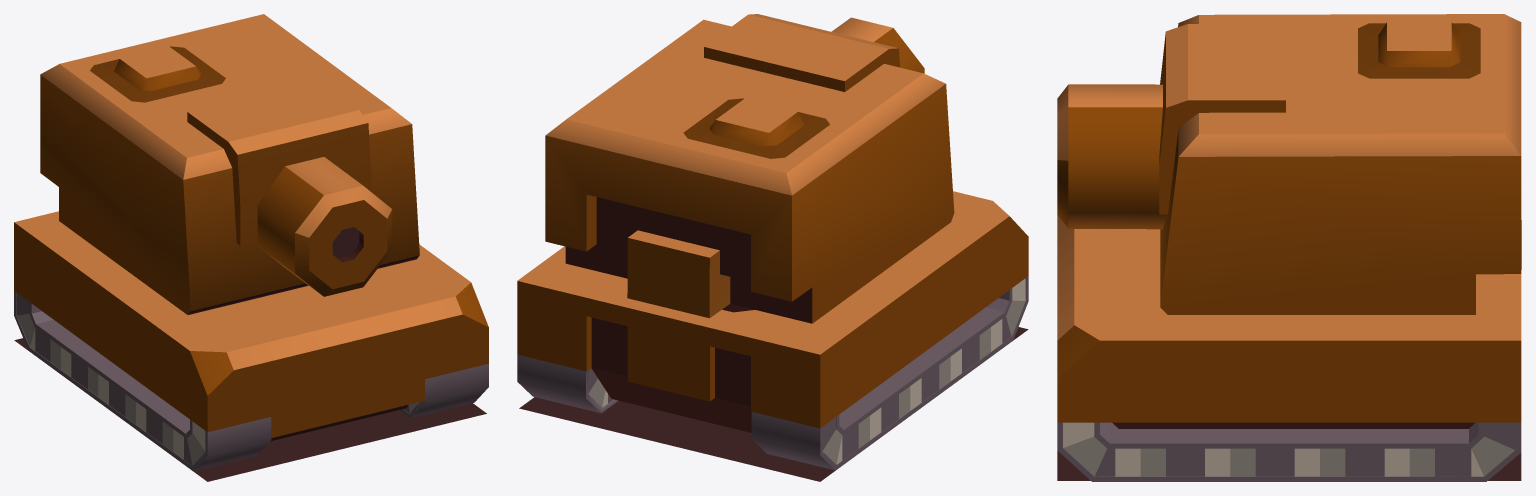
The model's file is MediumTankMesh.UmberWilds.glb.
3 views of the same model, side by side, from view 1: azimuth 30°, elevation 25°; view 2: azimuth 150°, elevation 25°; view 3: azimuth 270°, elevation 25° (orthographic). The views are drawn at different scales.
Parts seen in each view (by area): view 1: MediumTankMesh.UmberWilds; view 2: MediumTankMesh.UmberWilds; view 3: MediumTankMesh.UmberWilds.
Part boxes in pixels (x1,y1,x2,y2): MediumTankMesh.UmberWilds: (14, 14, 488, 481); MediumTankMesh.UmberWilds: (517, 14, 1028, 481); MediumTankMesh.UmberWilds: (1057, 14, 1521, 481).
Bounding box in the file's own units: 1.72 × 1.66 × 2.05.
Materials: 1 (1 with a texture image).
